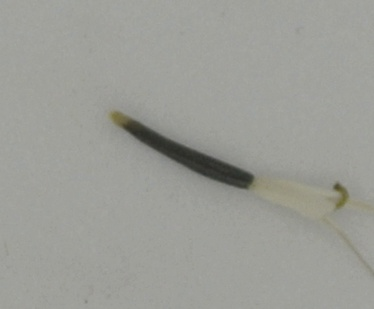เมล็ดดีเรียวยาว: (107, 111, 362, 240)
